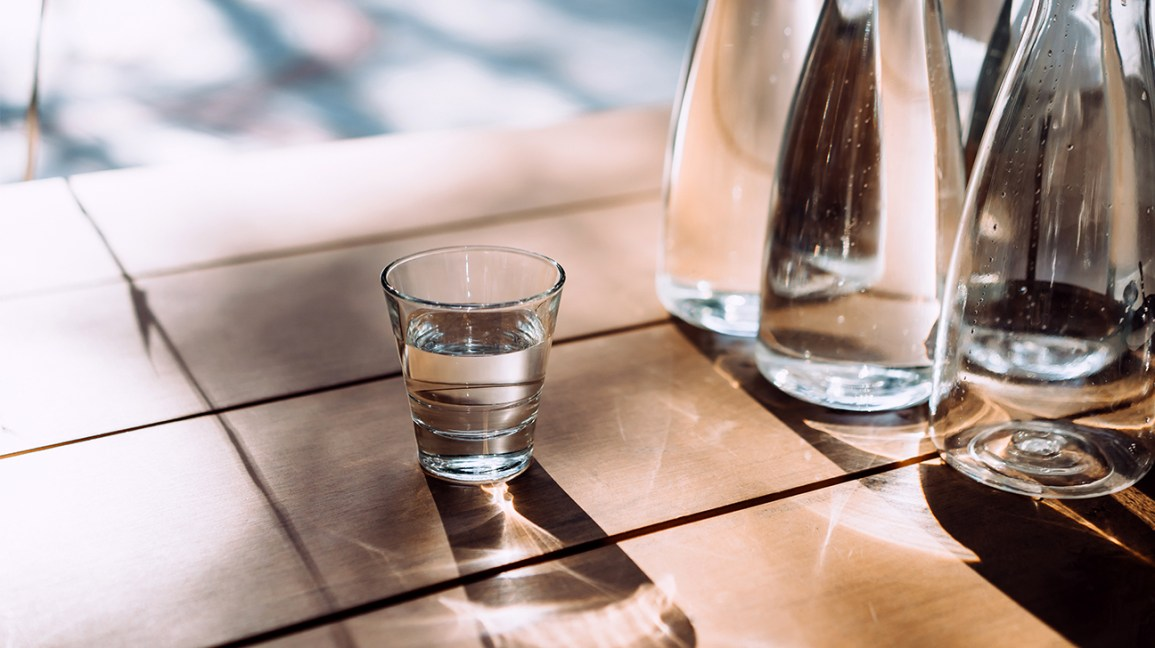glass: (378, 243, 568, 487)
